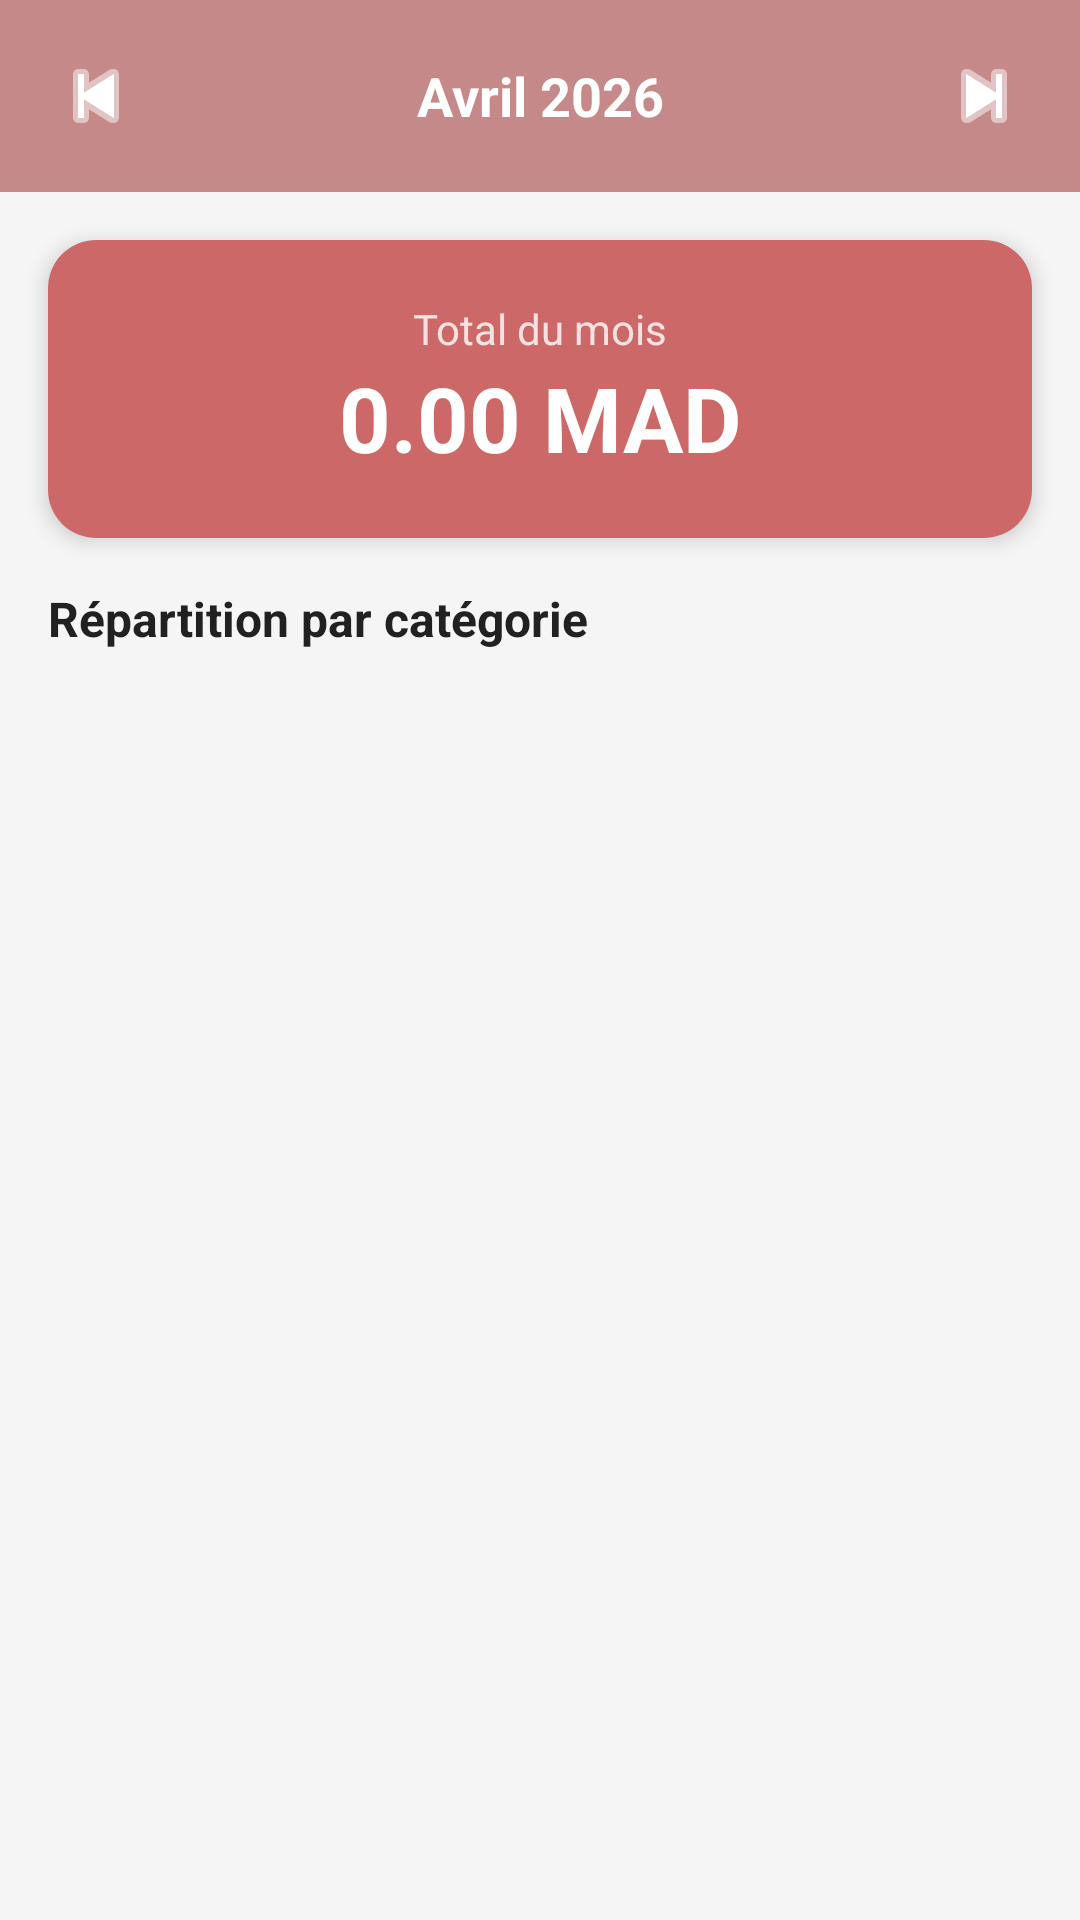

Where to tap for icons on this 1080×1920 app screen, as (x=x, y=y):
next: (x=984, y=96)
previous: (x=96, y=96)
